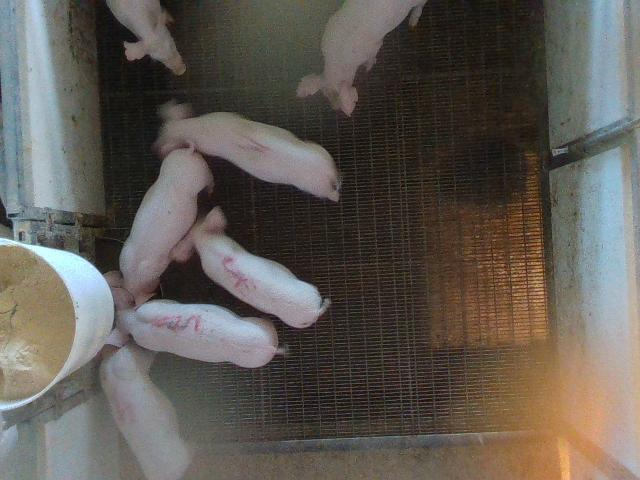pig-1: (154, 100, 340, 201)
pig-3: (109, 288, 282, 367)
pig-4: (99, 340, 192, 479)
pig-5: (172, 208, 330, 328)
